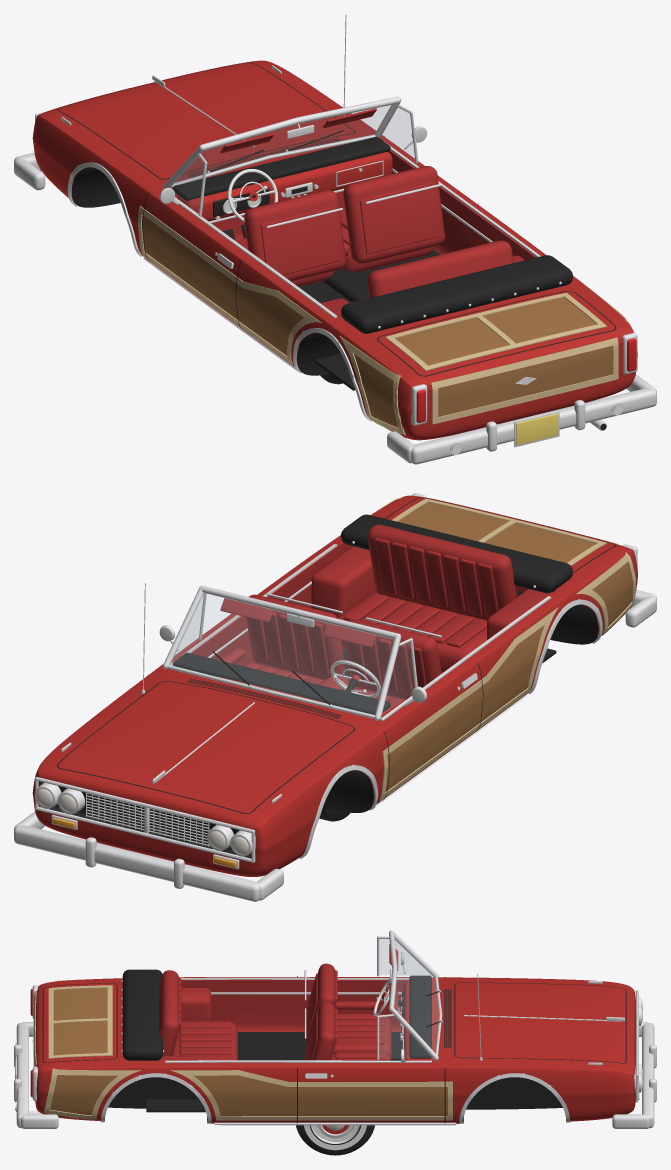
Rendered from woody.glb.
3 renders of one model, top to bottom at view 1: azimuth 30°, elevation 25°; view 2: azimuth 150°, elevation 25°; view 3: azimuth 270°, elevation 25°, orthographic. The views are drawn at different scales.
Parts seen in each view (by area): view 1: Woody; view 2: Woody; view 3: Woody, Wheel.
Part boxes in pixels (x1=…): Woody: x1=14, y1=14, x2=656, y2=464; Woody: x1=14, y1=493, x2=656, y2=901; Woody: x1=14, y1=930, x2=656, y2=1128; Wheel: x1=296, y1=1125, x2=374, y2=1155.
Size of the model in its own units: 2.18 by 2.14 by 5.74.
